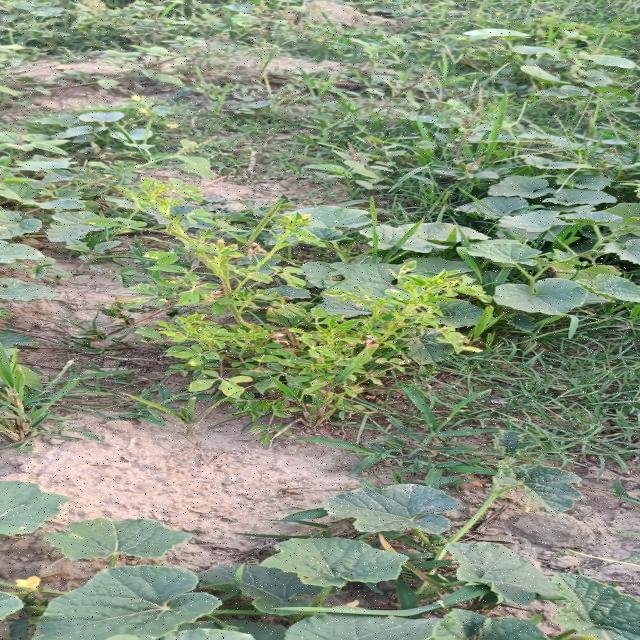plant: (132, 181, 486, 422)
